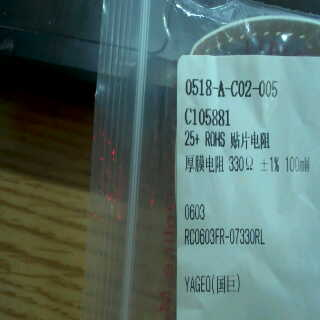330R: (227, 152, 259, 174)
